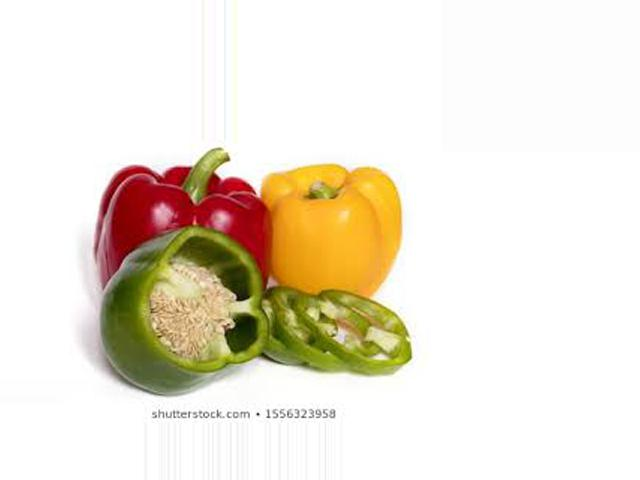bell_pepper: (82, 222, 268, 380)
